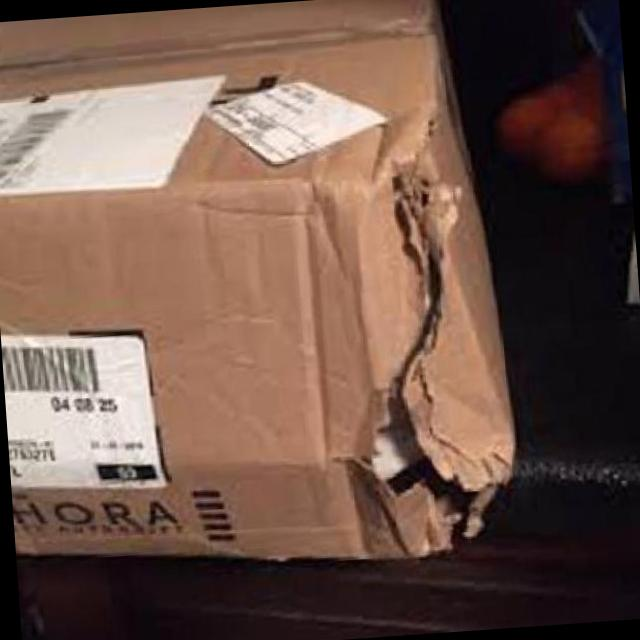box: (1, 1, 510, 561)
tear: (354, 165, 510, 551)
